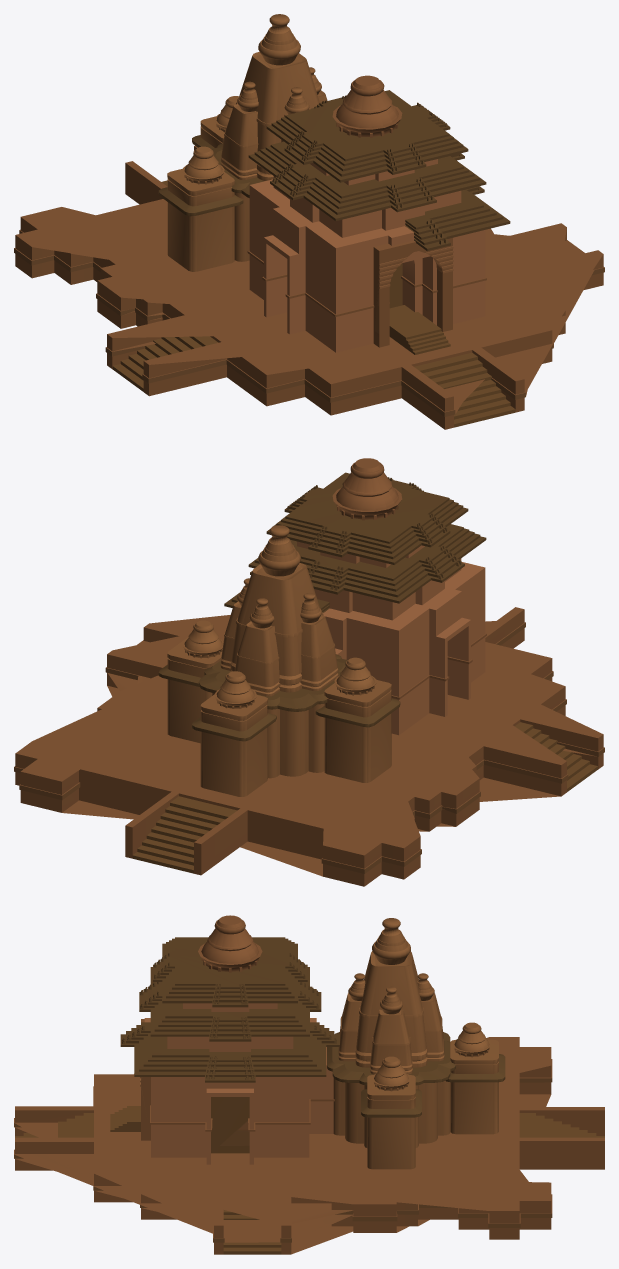
File: Konark Temple.fbx
3 renders of one model, top to bottom at view 1: azimuth 30°, elevation 25°; view 2: azimuth 150°, elevation 25°; view 3: azimuth 270°, elevation 25°, orthographic. The views are drawn at different scales.
Visible parts, largest first — view 1: Konark Temple; view 2: Konark Temple; view 3: Konark Temple.
Part boxes in pixels (box(x1,y1,x2,y2)): Konark Temple: box(14, 14, 604, 429); Konark Temple: box(14, 458, 604, 886); Konark Temple: box(14, 915, 604, 1254).
Bounding box in the file's own units: 0.2942 × 0.3597 × 0.1562.
1 material, 1 textured.
